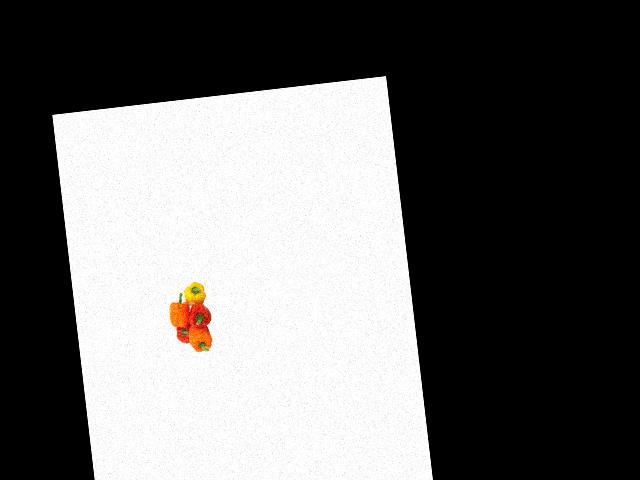bell_pepper: (185, 322, 216, 359)
